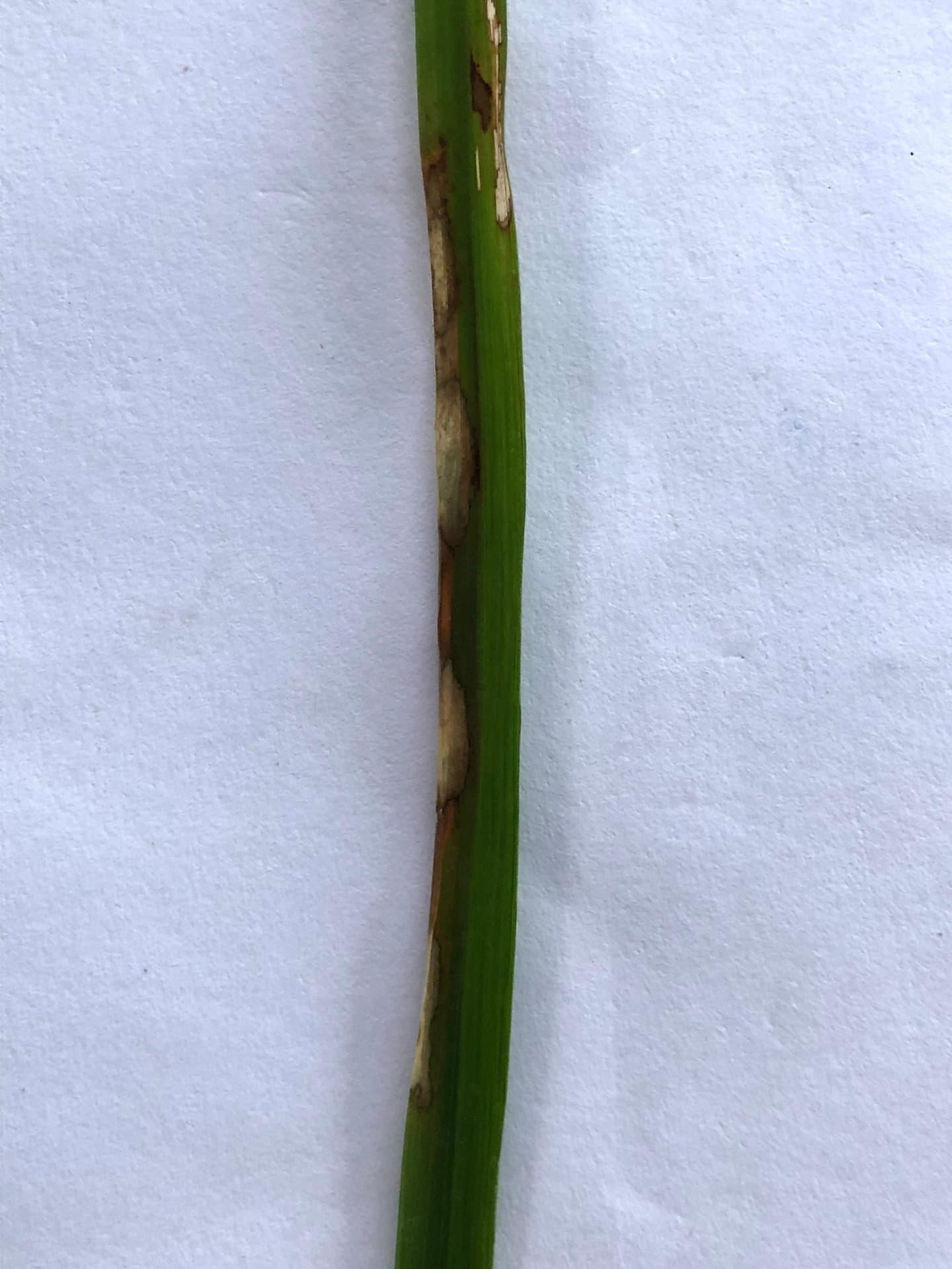Leaf Blight: (411, 137, 473, 1116), (467, 0, 518, 231)
